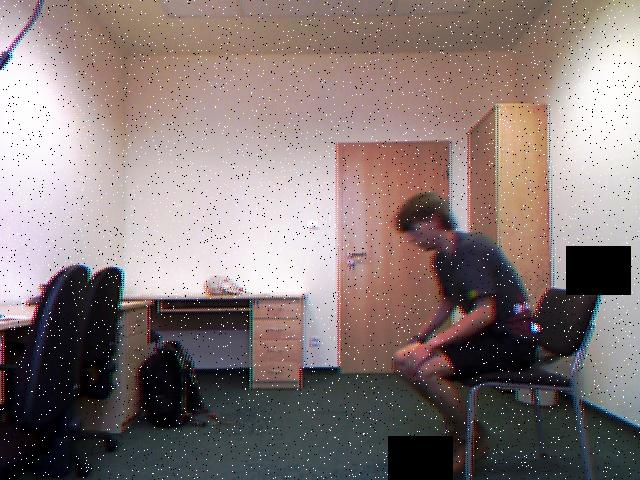near-fall: (378, 183, 552, 480)
